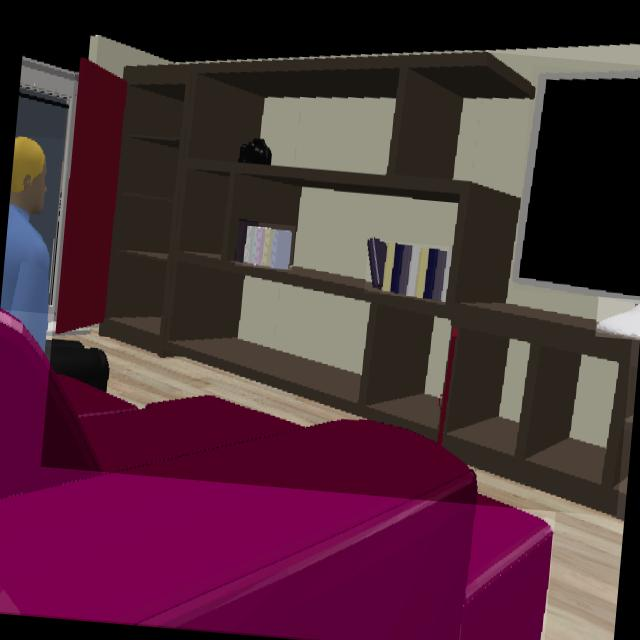book: (367, 239, 448, 300), (235, 221, 293, 270), (595, 301, 640, 340)
bookshelf: (53, 51, 632, 517)
monitor: (516, 76, 640, 301)
person: (0, 136, 109, 392)
sofa: (0, 309, 552, 640)
